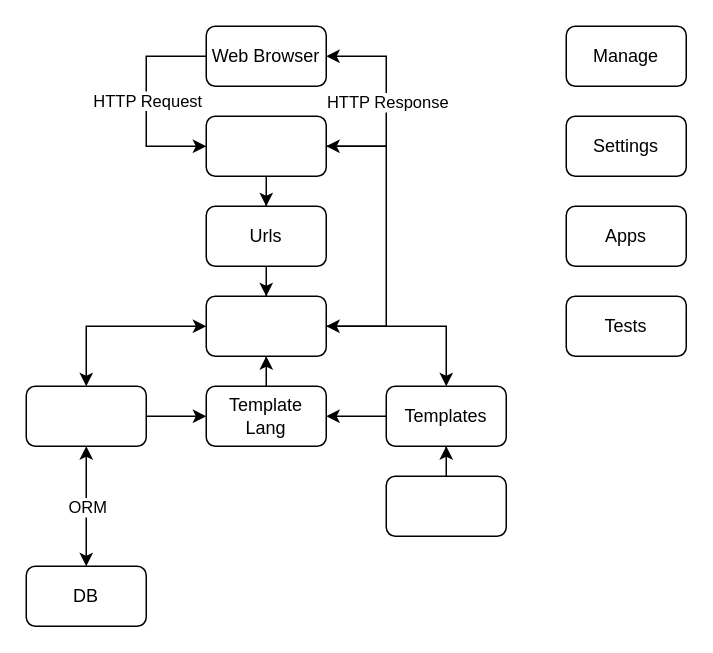
This 713x653 diagram has some shape labels left out. The centre of each missing label's shape, as x and y in pixels:
Models: (85,415)
Static: (445,505)
Views: (265,325)
WSGI: (265,145)
